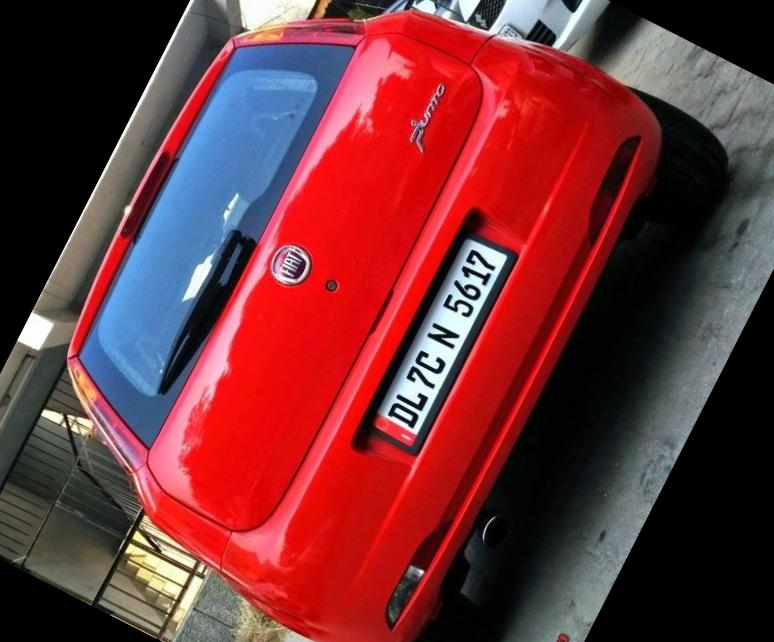plate: (356, 215, 543, 471)
